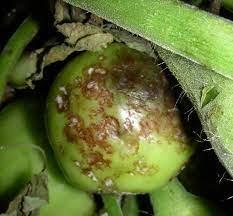tomato late blight: (42, 36, 200, 212)
